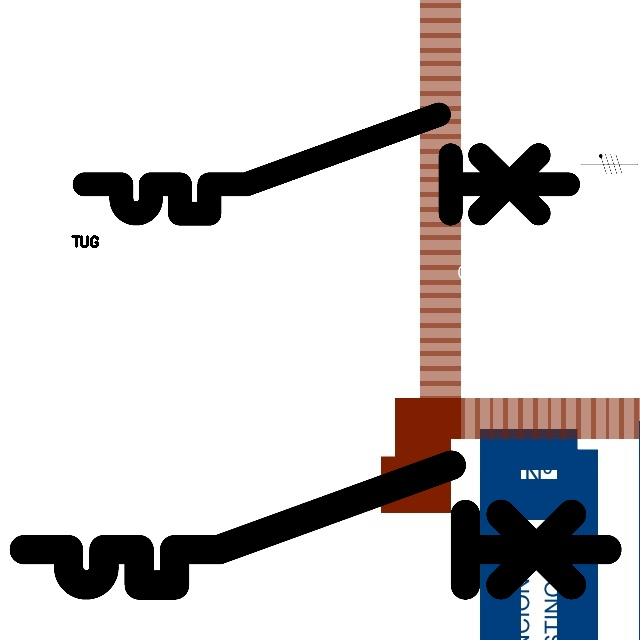interruptor_termomagnetico: (9, 450, 622, 600), (72, 102, 580, 226)
